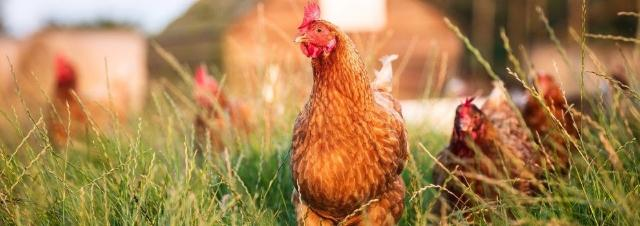Chicken: (290, 1, 409, 226), (433, 86, 538, 206)
